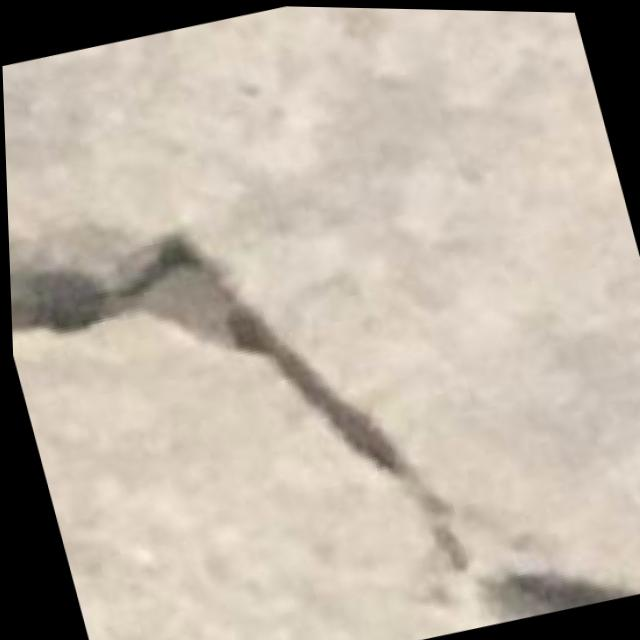Crack: (5, 165, 418, 604), (474, 532, 615, 623)
